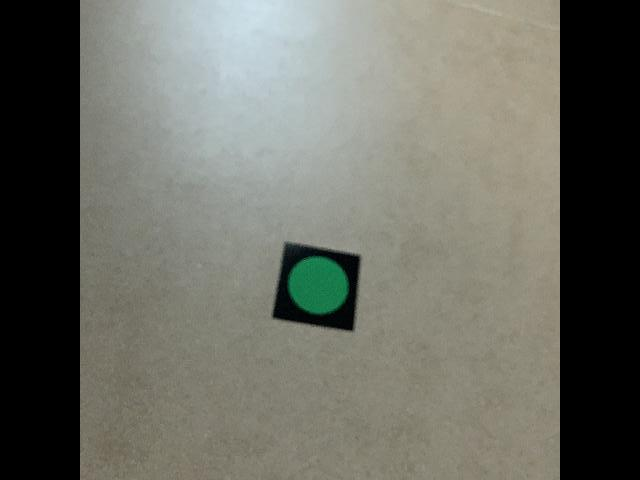go: (271, 240, 362, 334)
